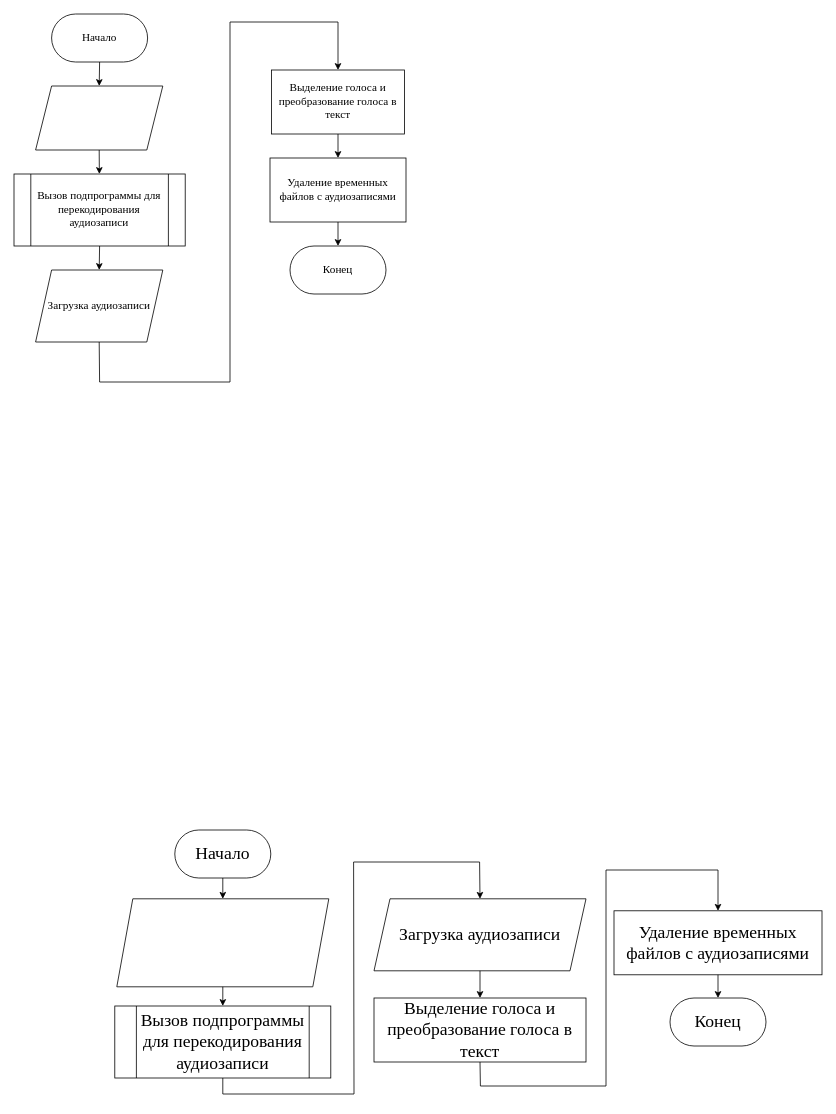
Some shapes in this 836 by 1114 pixel diagram are drawn without their labels. Each missing label, with the centre of its shape:
"Получение пути к исходной и перекодированной аудиозаписи" goes at (x=99, y=117).
"Получение расположения исходной и перекодированной аудиозаписей" goes at (x=222, y=942).
